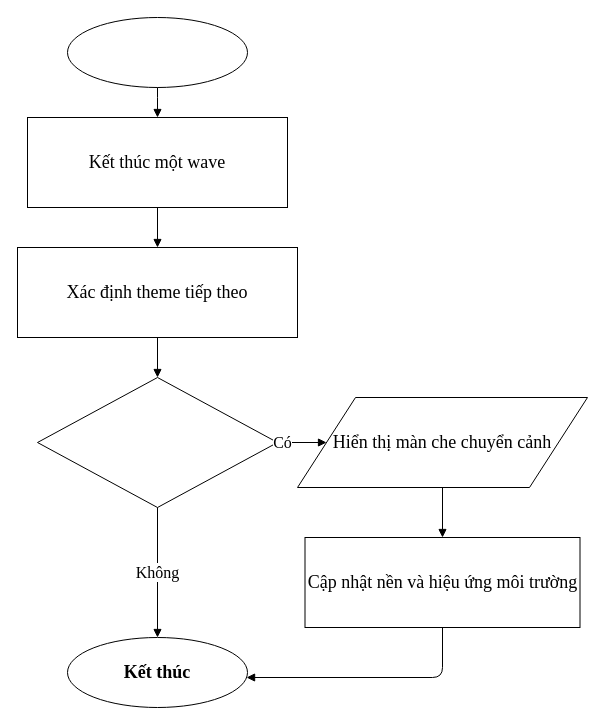
This 605x725 diagram has some shape labels left out. Each missing label, with the centre of its shape:
"Bắt đầu" belongs at point (157, 52).
"Có cần đổi theme?" belongs at point (157, 442).
